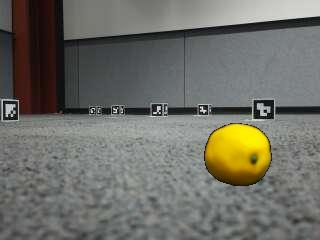lemon: (204, 123, 270, 185)
